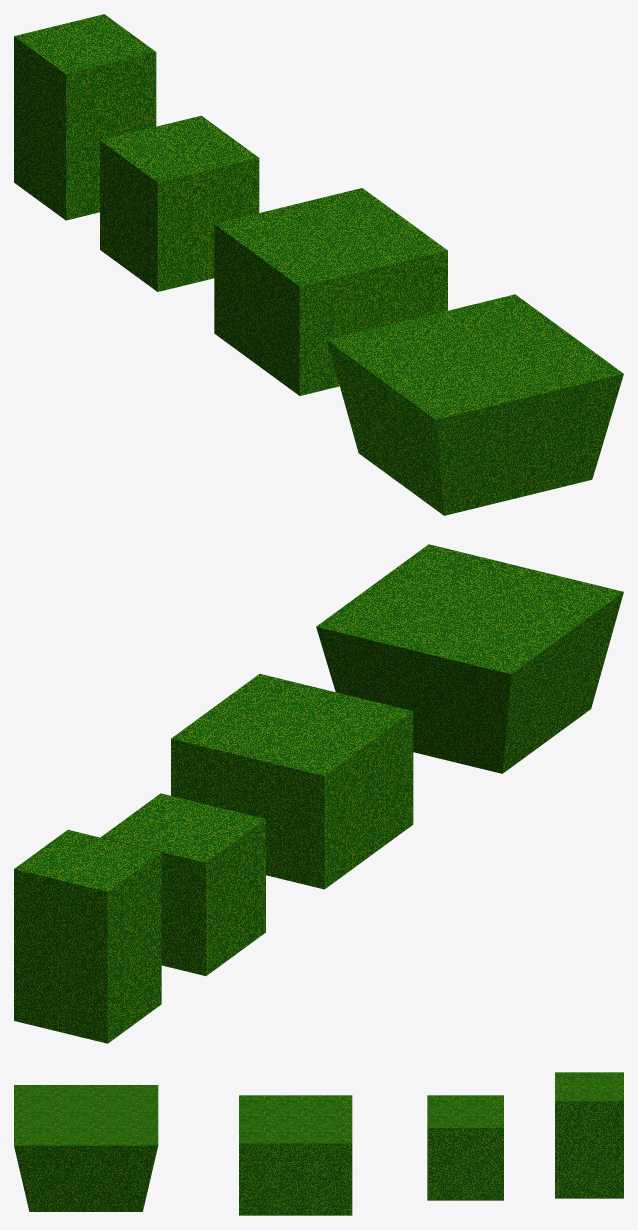
File: BLOCKYGON_TREE CUT .fbx
3 renders of one model, top to bottom at view 1: azimuth 30°, elevation 25°; view 2: azimuth 150°, elevation 25°; view 3: azimuth 270°, elevation 25°, orthographic. The views are drawn at different scales.
Visible parts, largest first — view 1: BLOCKYGON_TREE_CUT_; view 2: BLOCKYGON_TREE_CUT_; view 3: BLOCKYGON_TREE_CUT_.
Boxes of the visible parts, x1=… form: BLOCKYGON_TREE_CUT_: x1=14, y1=14, x2=623, y2=515; BLOCKYGON_TREE_CUT_: x1=14, y1=544, x2=623, y2=1043; BLOCKYGON_TREE_CUT_: x1=14, y1=1072, x2=623, y2=1215.
Bounding box in the file's own units: 381 × 285 × 1613.
